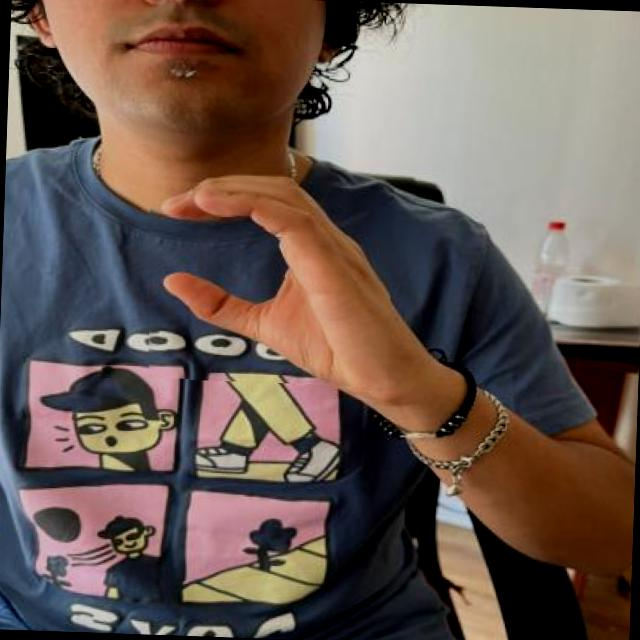C: (143, 160, 394, 388)
